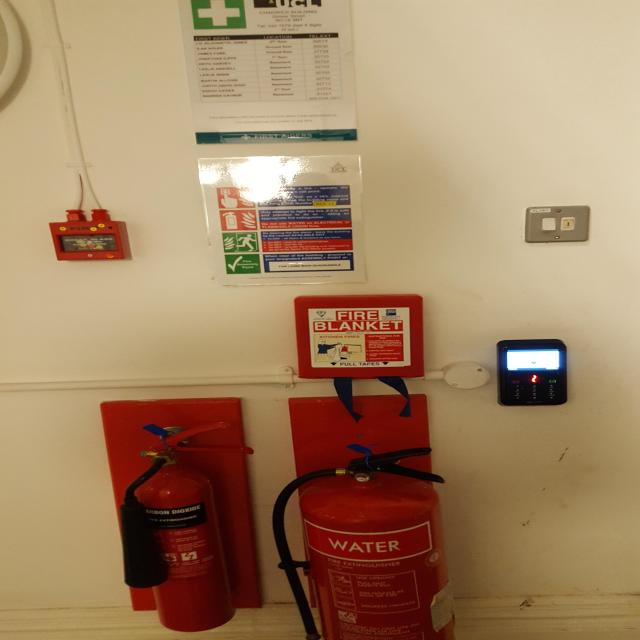fire_extinguisher: (266, 442, 469, 640), (114, 418, 262, 634)
